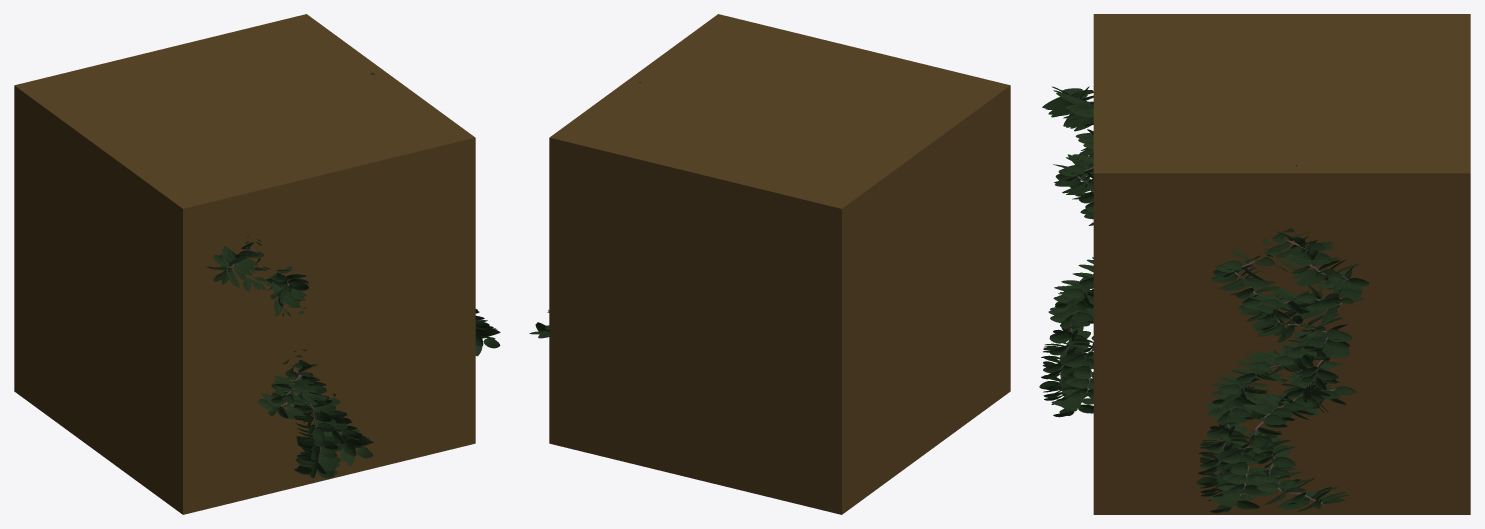
3 renders of one model, left to right at view 1: azimuth 30°, elevation 25°; view 2: azimuth 150°, elevation 25°; view 3: azimuth 270°, elevation 25°, orthographic. The views are drawn at different scales.
Visible parts, largest first — view 1: Cube.001; view 2: Cube.001; view 3: Cube.001, vine 2.
Part boxes in pixels (x1,y1,x2,y2): Cube.001: (14,14,475,514); Cube.001: (549,14,1010,514); Cube.001: (1093,14,1470,514); vine 2: (1217,240,1347,504).
Size of the model in its own units: 2.57 by 2.01 by 2.29.
